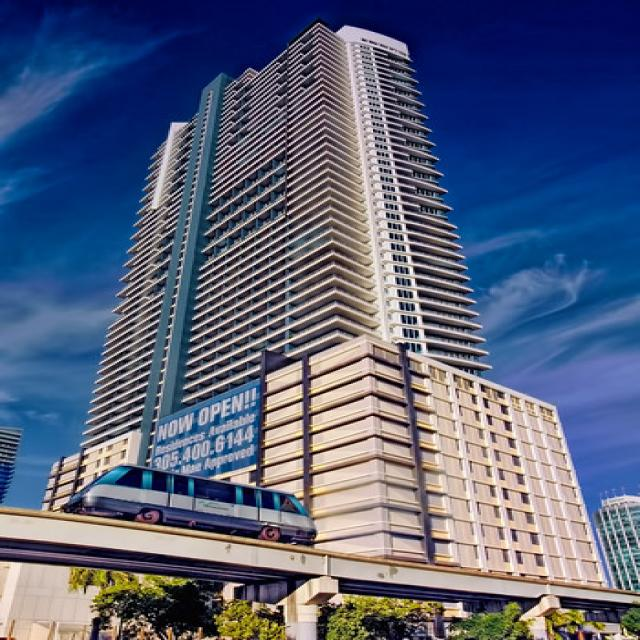Normal_building: (41, 20, 610, 630)
